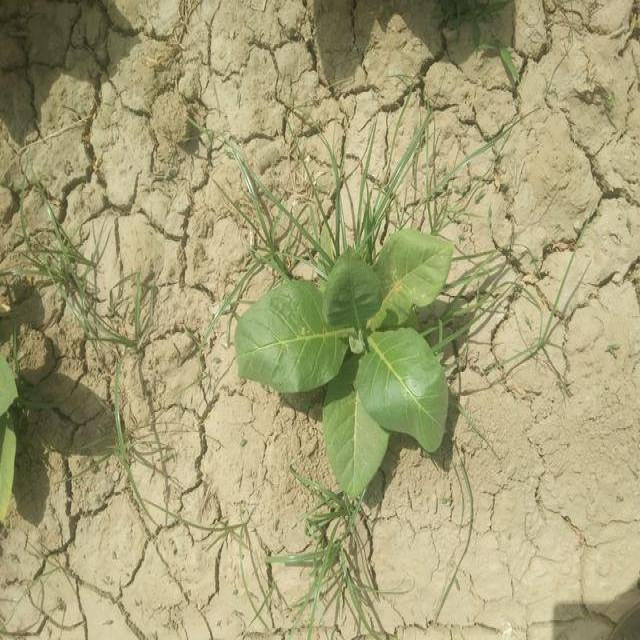crop: (245, 235, 451, 488)
